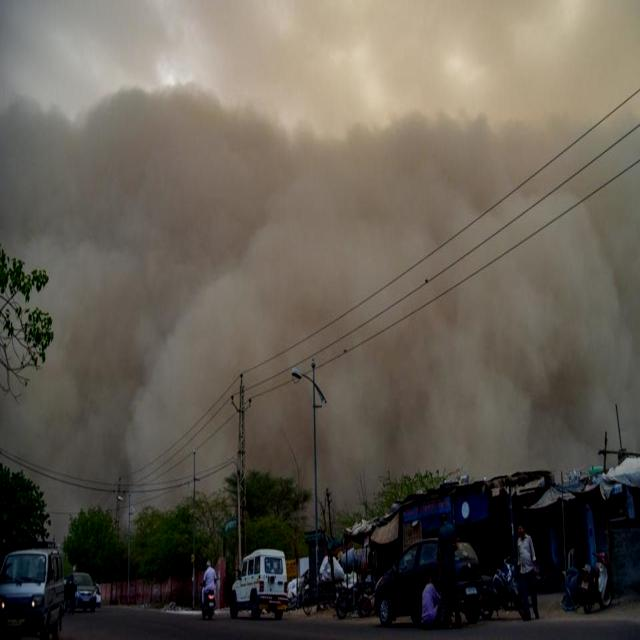Car: (369, 524, 481, 633), (232, 532, 291, 623), (66, 561, 98, 619)
Cycle: (198, 547, 221, 618)
Van: (0, 530, 69, 640)
